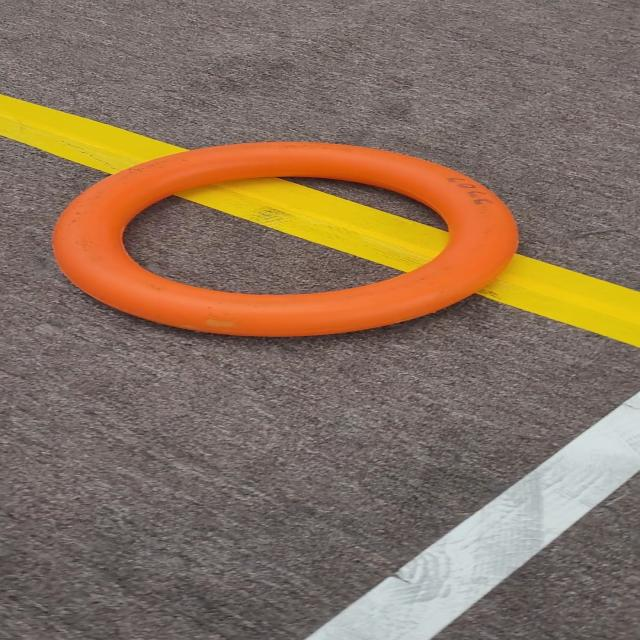note: (36, 129, 557, 357)
